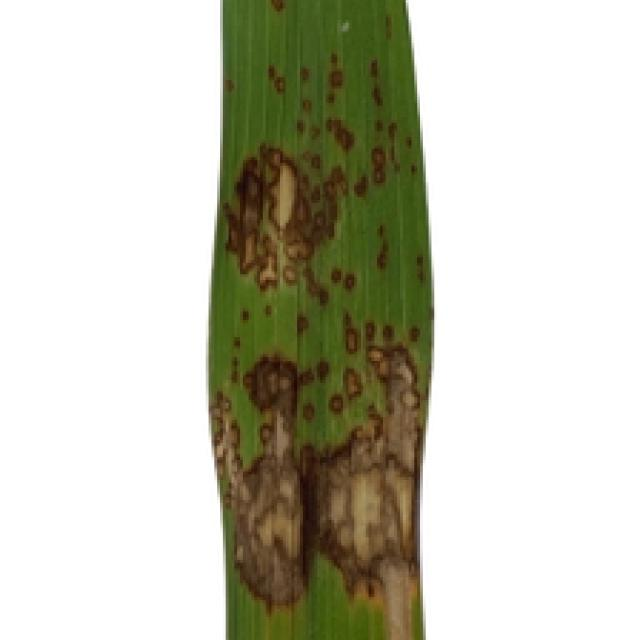Rice___Brown_Spot: (207, 0, 438, 637)
